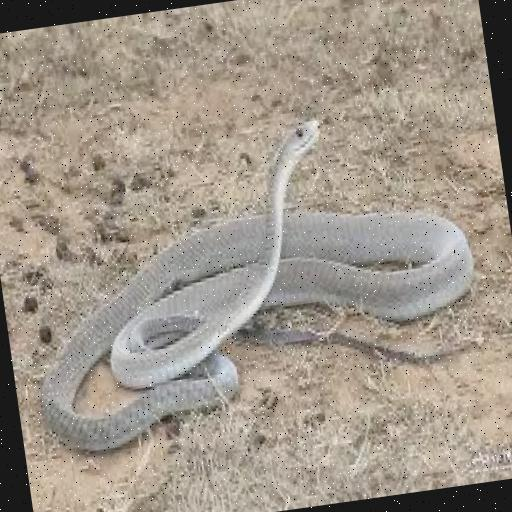snake: (41, 121, 473, 451)
